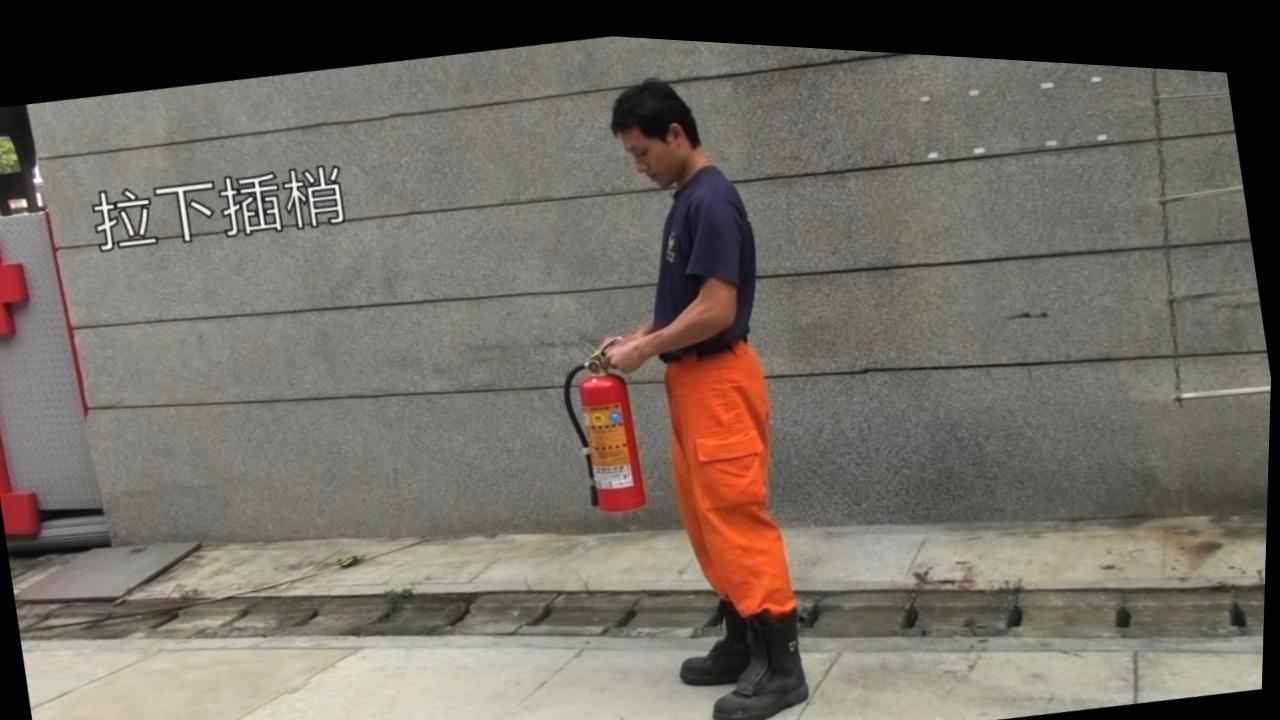FireExtinguisher: (549, 340, 666, 522)
not: (640, 319, 839, 634), (0, 205, 101, 540)
